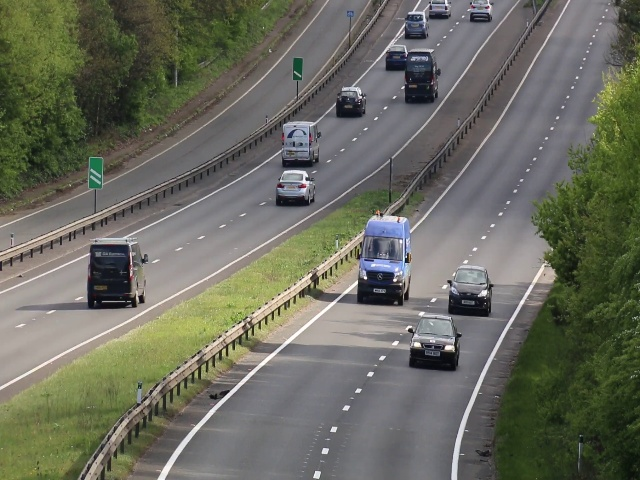car: (86, 237, 150, 308), (360, 221, 410, 307), (411, 311, 460, 372), (447, 266, 492, 316), (279, 120, 323, 169), (405, 48, 440, 103), (276, 171, 315, 207), (336, 84, 366, 117), (403, 9, 429, 38), (385, 42, 407, 72), (468, 1, 494, 22), (428, 1, 451, 19)
